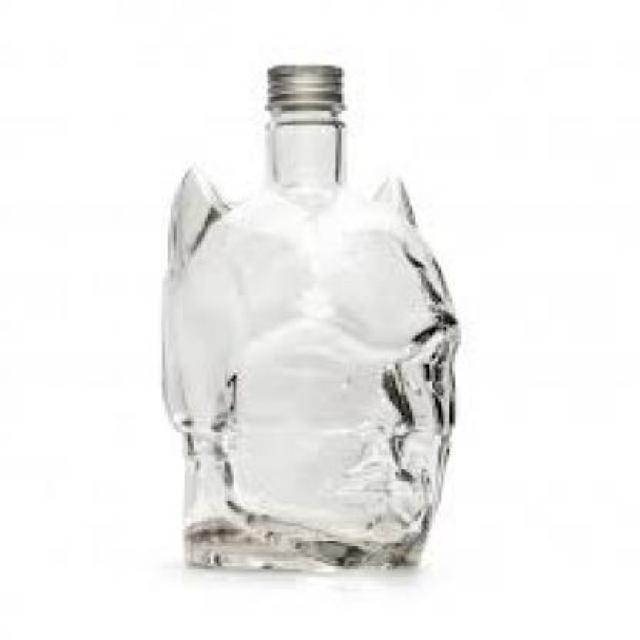kaca: (158, 100, 456, 569), (264, 60, 336, 111)
